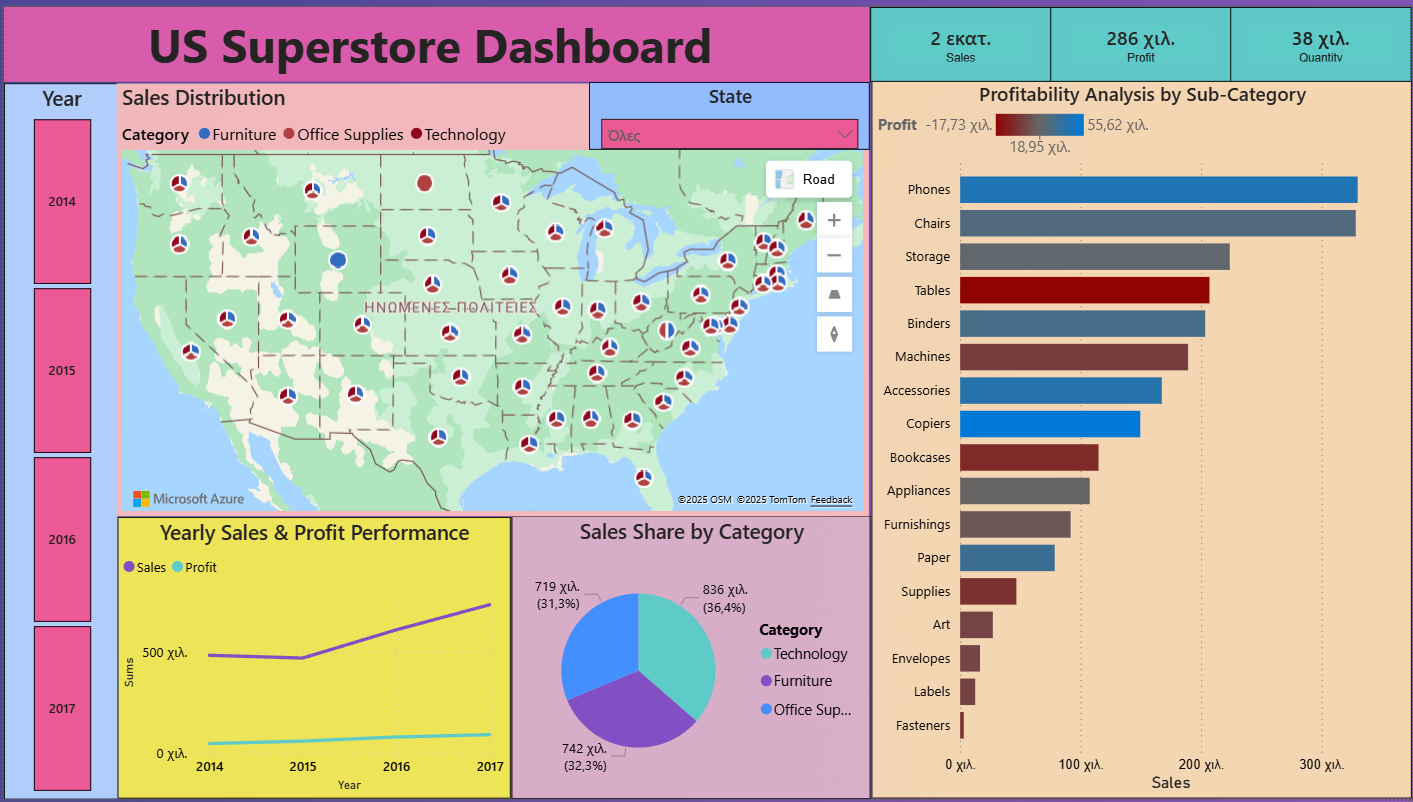

Layout of this report page (visuals, bound fields, positions):
{"tool":"powerbi","page":{"name":"Σελίδα 1","canvas":[1280,720],"ordinal":0},"visuals":[{"type":"clusteredBarChart","title":"Profitability Analysis by Sub-Category","fields":{"Category":["Sample - Superstore.Sub-Category"],"Y":["Sum(Sample - Superstore.Sales)"]},"box":[788.8,66.2,491.2,653.8],"z":0},{"type":"textbox","box":[0,0,786.7,68.3],"z":1000},{"type":"cardVisual","fields":{"Data":["Sum(Sample - Superstore.Sales)"]},"box":[787.3,0,165.1,68.3],"z":2000},{"type":"cardVisual","fields":{"Data":["Sum(Sample - Superstore.Profit)"]},"box":[950.8,0,165.1,68.3],"z":3000},{"type":"cardVisual","fields":{"Data":["Sum(Sample - Superstore.Quantity)"]},"box":[1114.3,0,165.1,68.3],"z":4000},{"type":"lineChart","title":"Yearly Sales & Profit Performance","fields":{"Y":["Sum(Sample - Superstore.Sales)","Sum(Sample - Superstore.Profit)"],"Category":["Sample - Superstore.Order Date.Παραλλαγή.Ιεραρχία ημερομηνιών.Έτος"]},"box":[102.3,463.2,358.6,256.3],"z":5000},{"type":"slicer","title":"Year","fields":{"Values":["Sample - Superstore.Order Date.Παραλλαγή.Ιεραρχία ημερομηνιών.Έτος"]},"box":[0,68.8,103.8,651.2],"z":6000},{"type":"pieChart","title":"Sales Share by Category","fields":{"Category":["Sample - Superstore.Category"],"Y":["Sum(Sample - Superstore.Sales)"]},"box":[460.9,462.1,326.4,257.5],"z":7000},{"type":"azureMap","title":"Sales Distribution","fields":{"Series":["Sample - Superstore.Category"],"Category":["Sample - Superstore.Geography.Country","Sample - Superstore.Geography.State","Sample - Superstore.Geography.City"]},"box":[102.5,68.8,683.8,393.8],"z":8000},{"type":"slicer","title":"State","fields":{"Values":["Sample - Superstore.State"]},"box":[531.7,68.3,255.6,61.9],"z":9000}]}

Visuals, with their boxes in screenshot pixels (x1, y1, x2, y2), scaled from the page's 1280x720 canvas onto the 1413x802 screenshot:
"Profitability Analysis by Sub-Category" clusteredBarChart: 871, 74, 1412, 801
textbox: 0, 0, 868, 76
cardVisual - Sum(Sample - Superstore.Sales): 869, 0, 1051, 76
cardVisual - Sum(Sample - Superstore.Profit): 1050, 0, 1232, 76
cardVisual - Sum(Sample - Superstore.Quantity): 1230, 0, 1412, 76
"Yearly Sales & Profit Performance" lineChart: 113, 516, 509, 801
"Year" slicer: 0, 77, 115, 801
"Sales Share by Category" pieChart: 509, 515, 869, 801
"Sales Distribution" azureMap: 113, 77, 868, 515
"State" slicer: 587, 76, 869, 145
